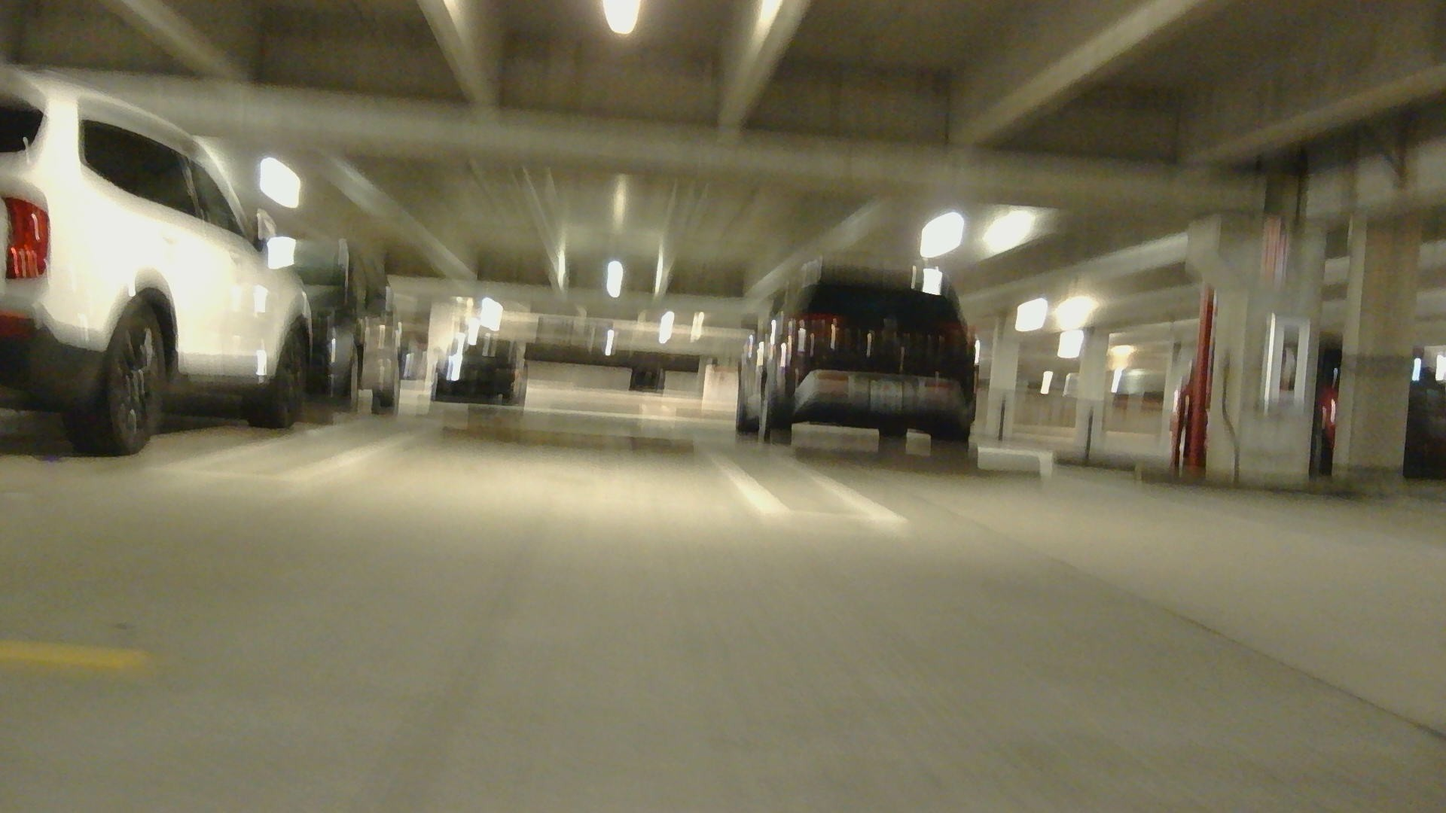empty_spot: (260, 388, 842, 518), (1137, 350, 1446, 543), (763, 445, 1431, 534)
occupied_spot: (0, 54, 326, 468)
